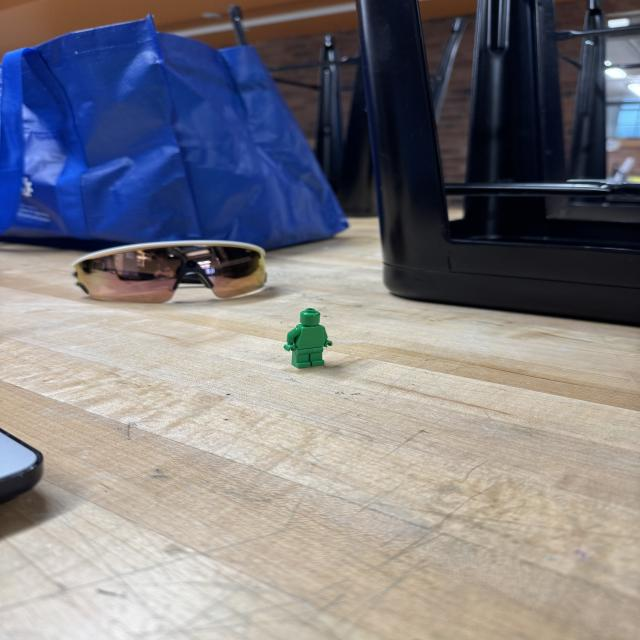Green Mini Figure: (284, 308, 333, 368)
